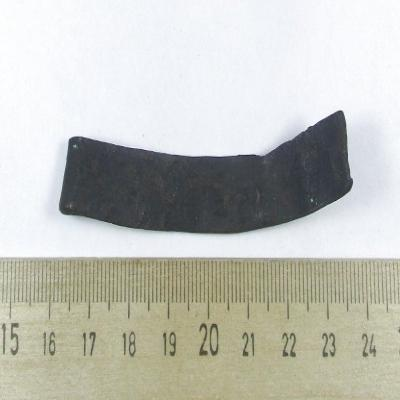archeology: (58, 111, 354, 236)
